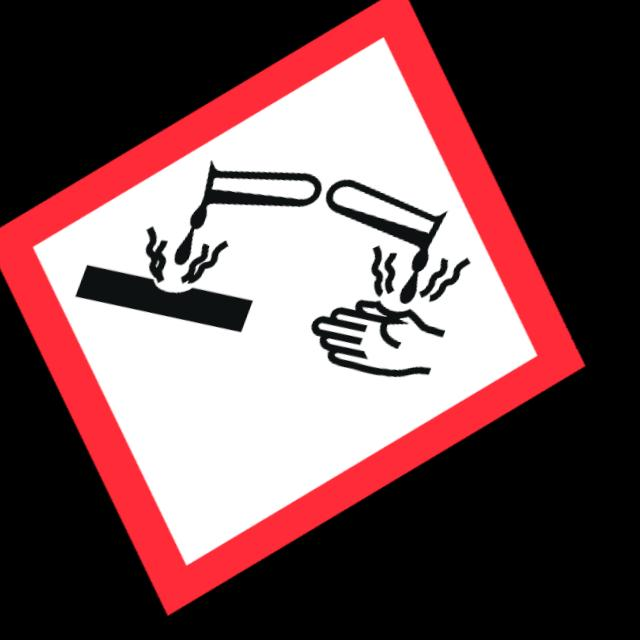corrosive: (69, 118, 504, 409)
